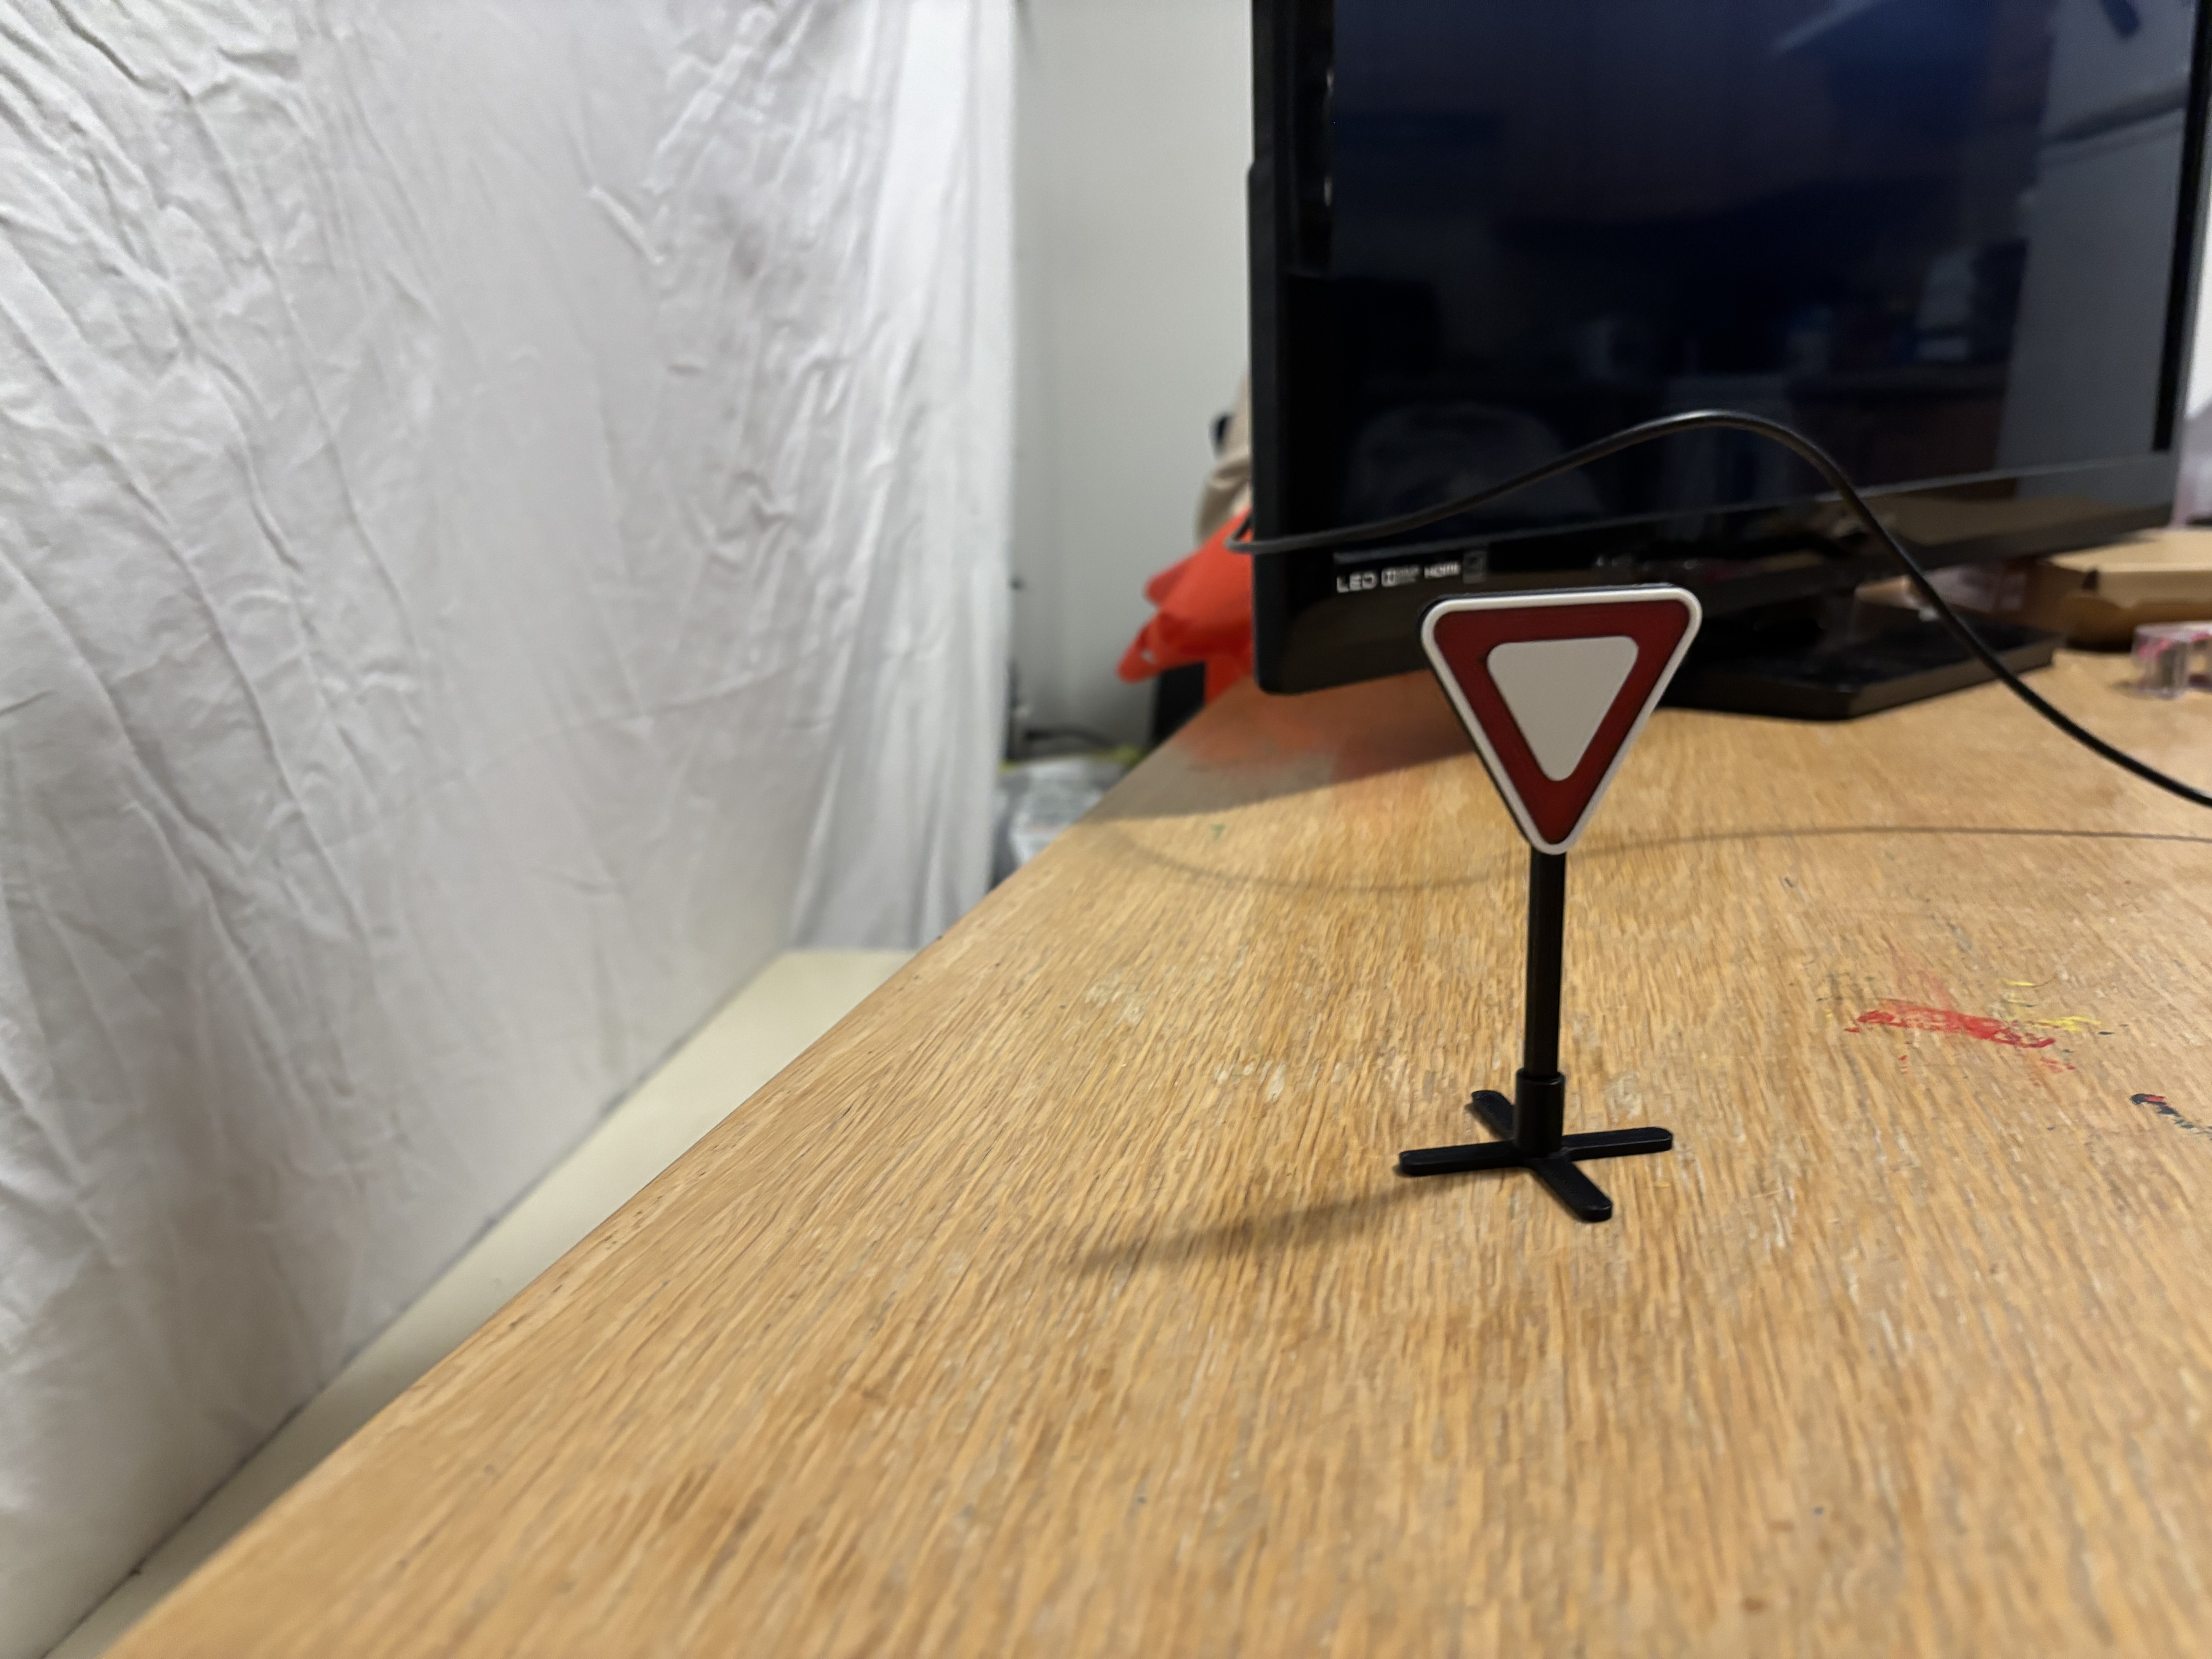sign_yield: (1397, 599, 1695, 852)
